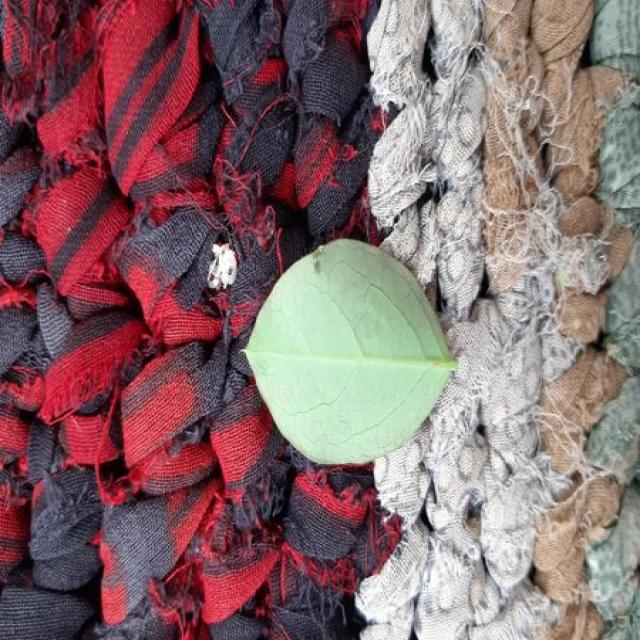amla: (247, 239, 458, 464)
